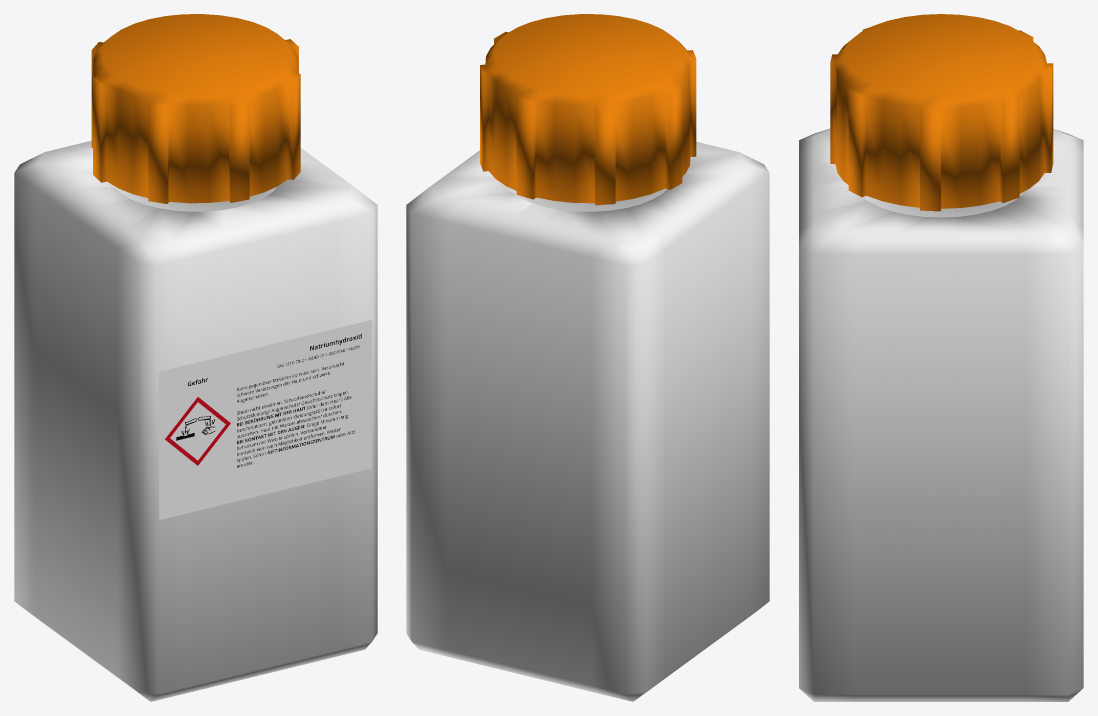
The model's file is NaOH-Container.gltf.
3 views of the same model, side by side, from view 1: azimuth 30°, elevation 25°; view 2: azimuth 150°, elevation 25°; view 3: azimuth 270°, elevation 25° (orthographic). The views are drawn at different scales.
Parts seen in each view (by area): view 1: Plane.068, Material_doof.004, NaOH-Etikett, Cylinder.237; view 2: Plane.068, Material_doof.004, Cylinder.237; view 3: Plane.068, Material_doof.004, Cylinder.237.
Part boxes in pixels (bbox=[...]): Plane.068: bbox=[14, 140, 377, 701]; Material_doof.004: bbox=[91, 14, 300, 203]; NaOH-Etikett: bbox=[159, 320, 371, 519]; Cylinder.237: bbox=[114, 186, 277, 211]; Plane.068: bbox=[406, 141, 769, 701]; Material_doof.004: bbox=[480, 14, 696, 205]; Cylinder.237: bbox=[506, 186, 666, 211]; Plane.068: bbox=[799, 128, 1083, 701]; Material_doof.004: bbox=[830, 14, 1053, 211]; Cylinder.237: bbox=[863, 191, 1024, 217].
Size of the model in its own units: 0.2191 by 0.504 by 0.2195.
3 materials, 2 textured.
